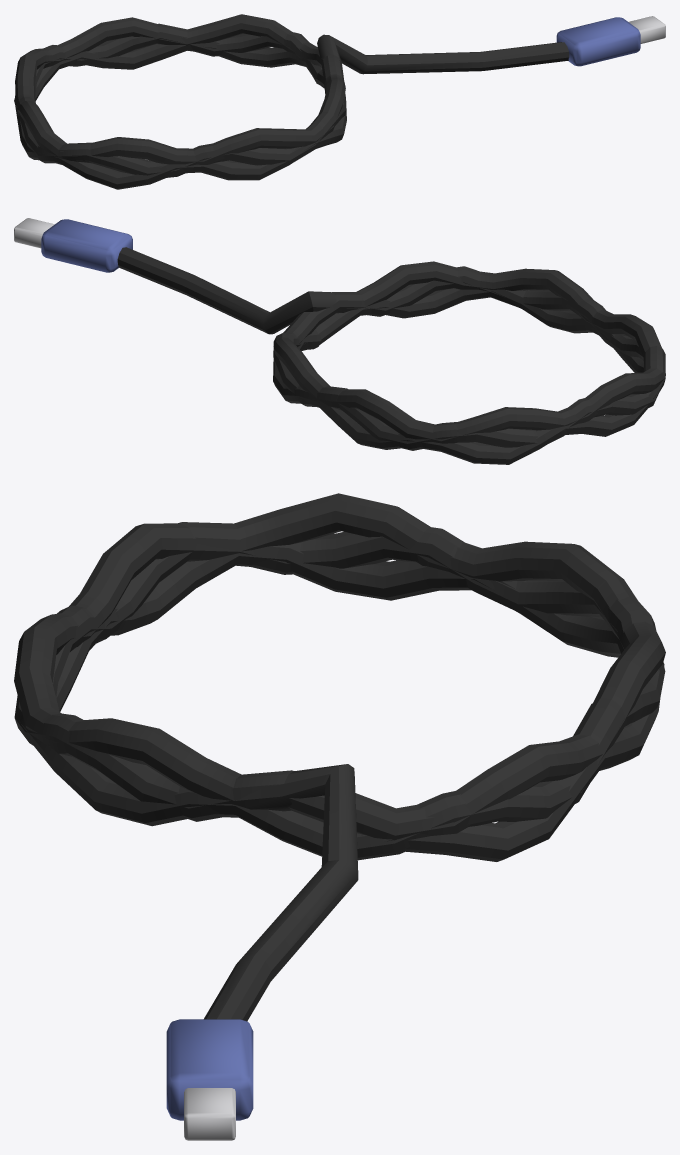
The model's file is cable_coil.glb.
3 views of the same model, one above another, from view 1: azimuth 30°, elevation 25°; view 2: azimuth 150°, elevation 25°; view 3: azimuth 270°, elevation 25° (orthographic). The views are drawn at different scales.
Visible parts, largest first — view 1: cable_coil; view 2: cable_coil; view 3: cable_coil.
Boxes of the visible parts, left/top/right/bottom form: cable_coil: left=14, top=14, right=665, bottom=189; cable_coil: left=14, top=218, right=665, bottom=464; cable_coil: left=14, top=493, right=665, bottom=1140.
Size of the model in its own units: 0.3133 by 0.0283 by 0.1504.
